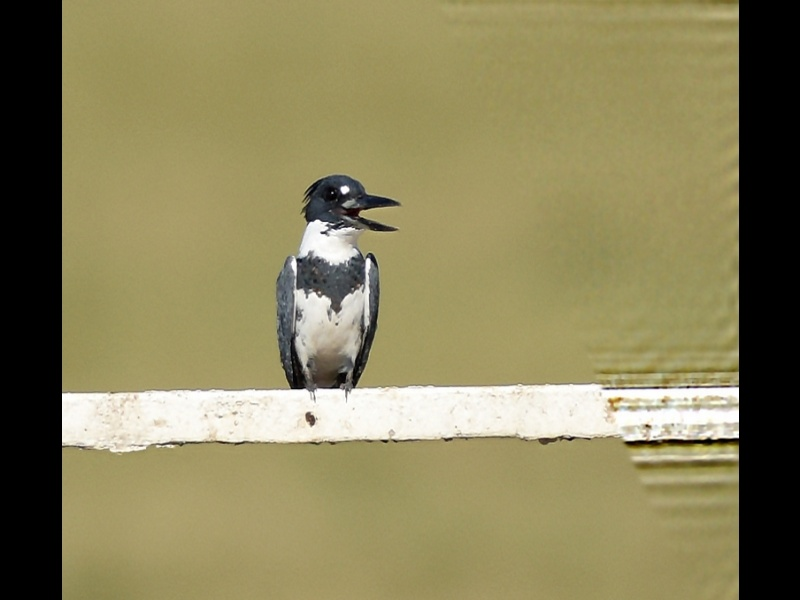kingfisher: (271, 174, 404, 394)
